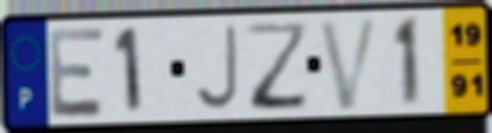1: (392, 12, 426, 112), (112, 24, 145, 117)
E: (46, 24, 107, 121)
J: (191, 22, 240, 114)
V: (315, 14, 384, 113)
Z: (244, 18, 312, 113)
